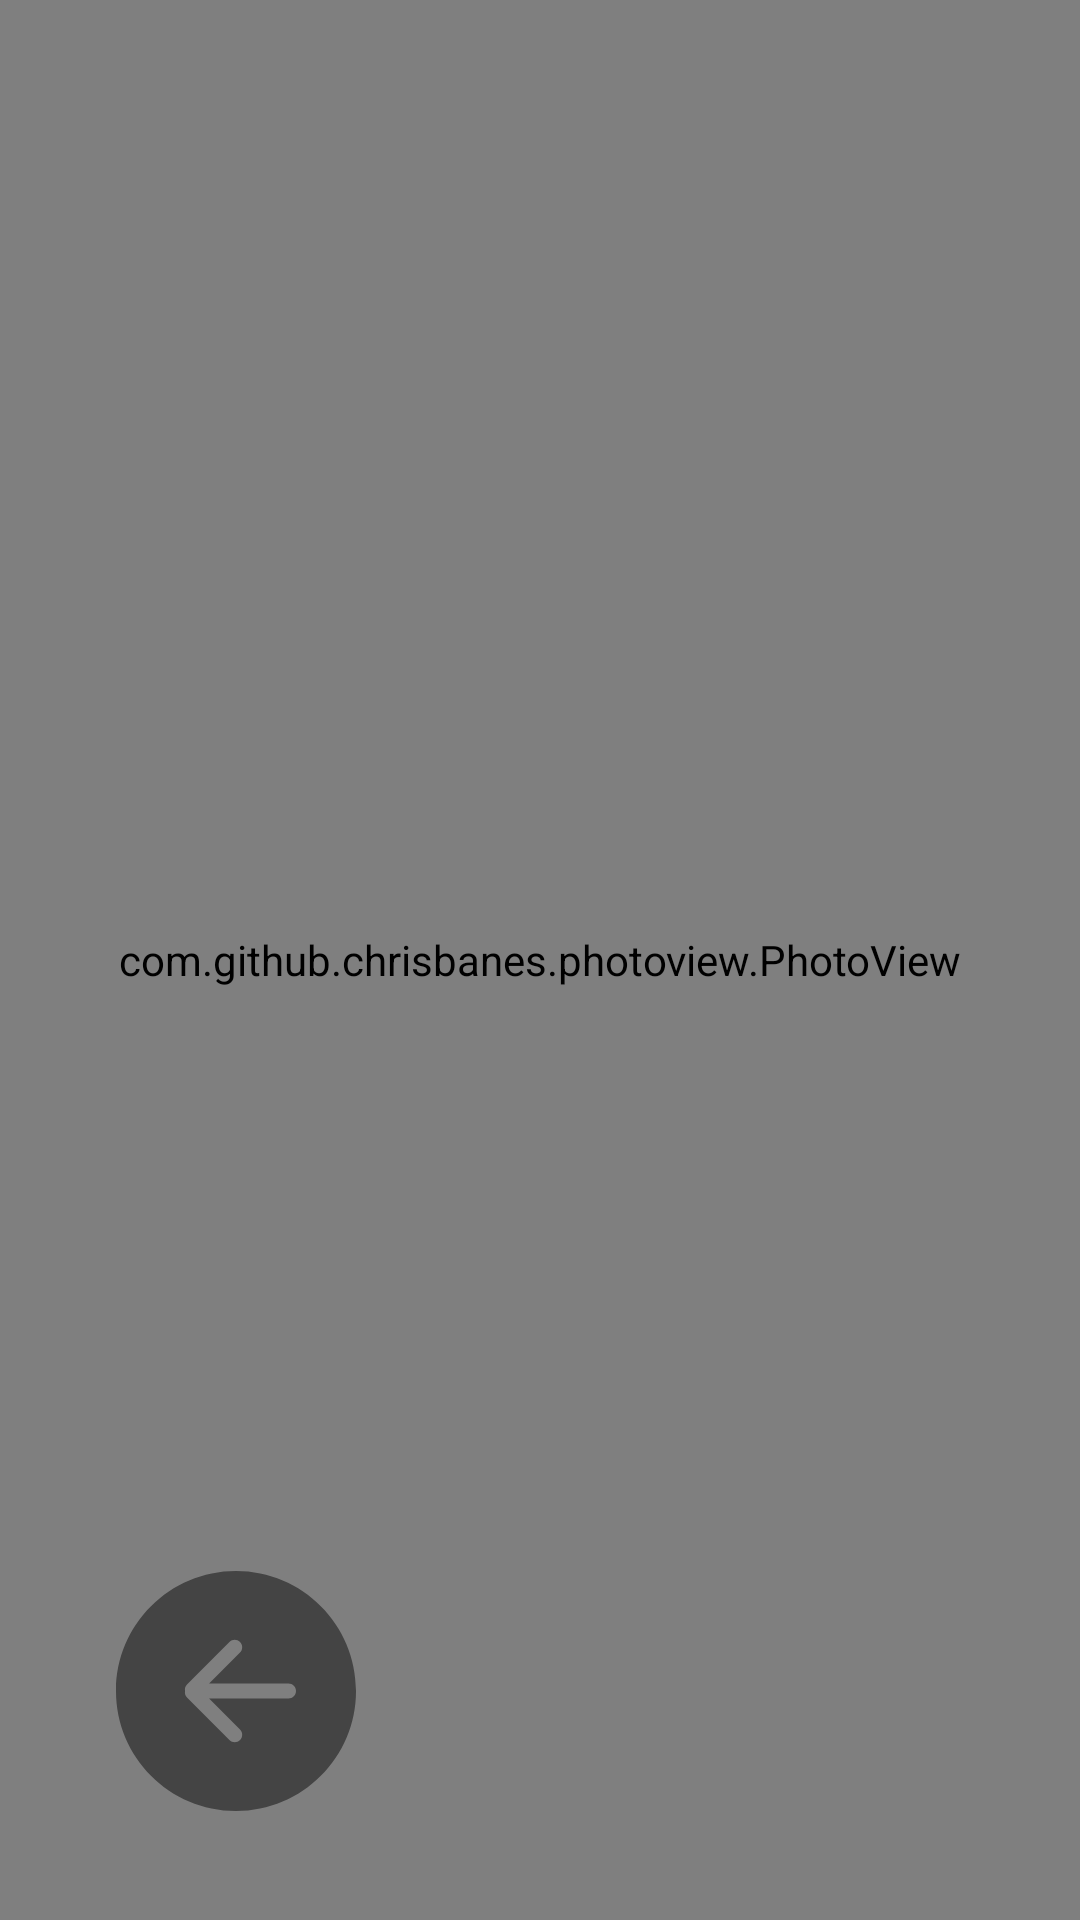

Icon bounding boxes for this 1080x1920 phone screenshot, format (x1=x1, y1=y1, x2=x2, y2=y2):
back: (x1=116, y1=1571, x2=356, y2=1811)
